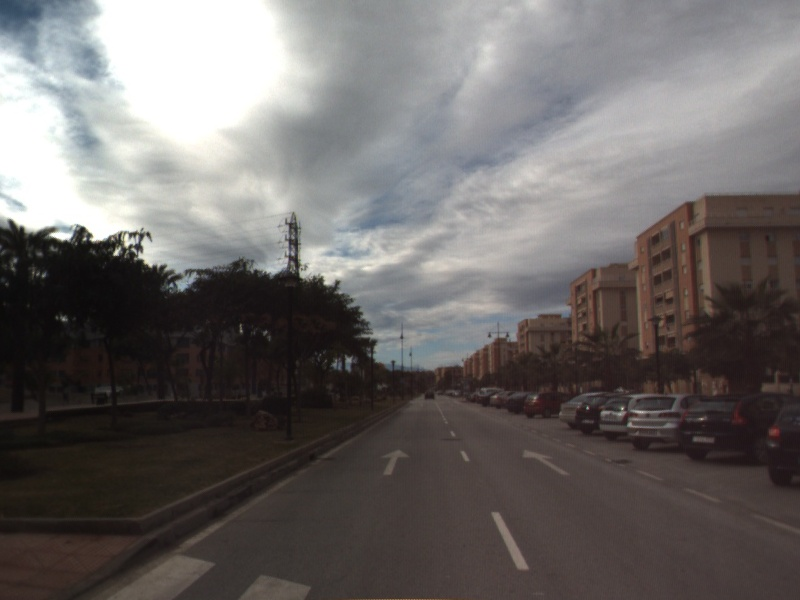STRAIGHT: (520, 448, 572, 477), (379, 447, 412, 477)
